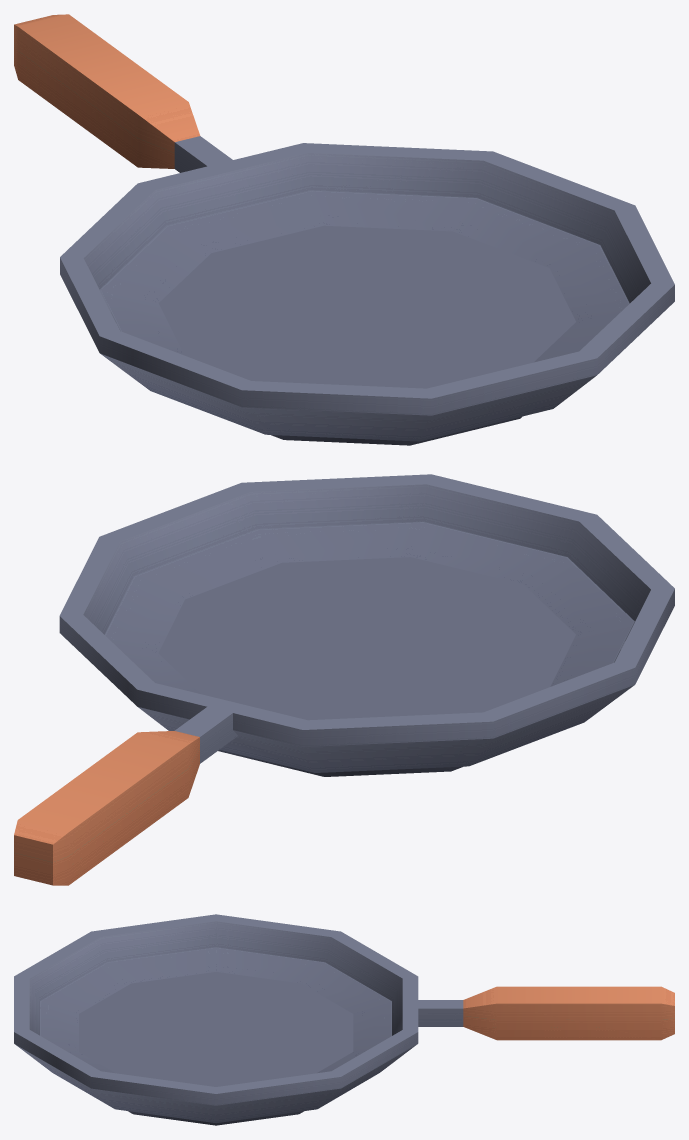
File: frying-pan.glb
The picture shows the model from 3 angles, top to bottom: view 1: azimuth 30°, elevation 25°; view 2: azimuth 150°, elevation 25°; view 3: azimuth 270°, elevation 25°; orthographic projection. The views are drawn at different scales.
Visible parts, largest first — view 1: frying-pan; view 2: frying-pan; view 3: frying-pan.
Boxes of the visible parts, x1,y1,x2,y2 form: frying-pan: [14, 14, 674, 445]; frying-pan: [14, 474, 674, 885]; frying-pan: [14, 914, 674, 1125].
Size of the model in its own units: 0.6575 by 0.1208 by 1.02.
Materials: 1 (1 with a texture image).
